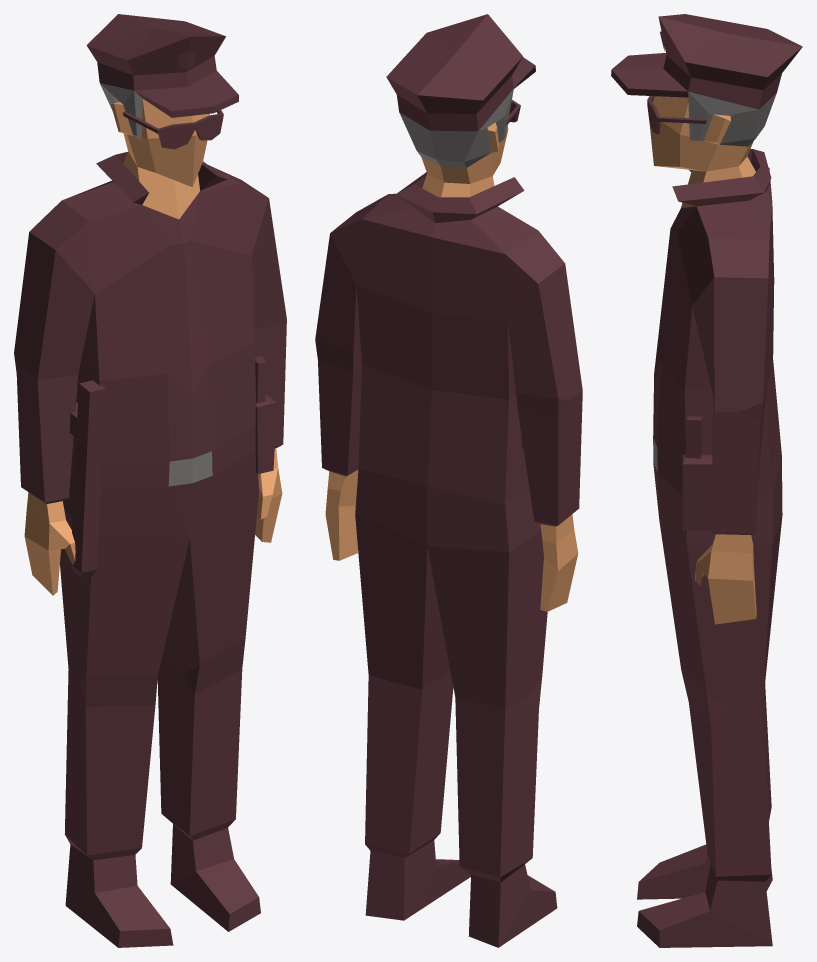
Rendered from man-police.fbx.
3 renders of one model, left to right at view 1: azimuth 30°, elevation 25°; view 2: azimuth 150°, elevation 25°; view 3: azimuth 270°, elevation 25°, orthographic. The views are drawn at different scales.
Visible parts, largest first — view 1: man-police; view 2: man-police; view 3: man-police.
Part boxes in pixels (x1,y1,x2,y2): man-police: (14, 14, 286, 947); man-police: (315, 14, 582, 947); man-police: (611, 14, 802, 947).
Bounding box in the file's own units: 0.5438 × 1.86 × 0.3613.
